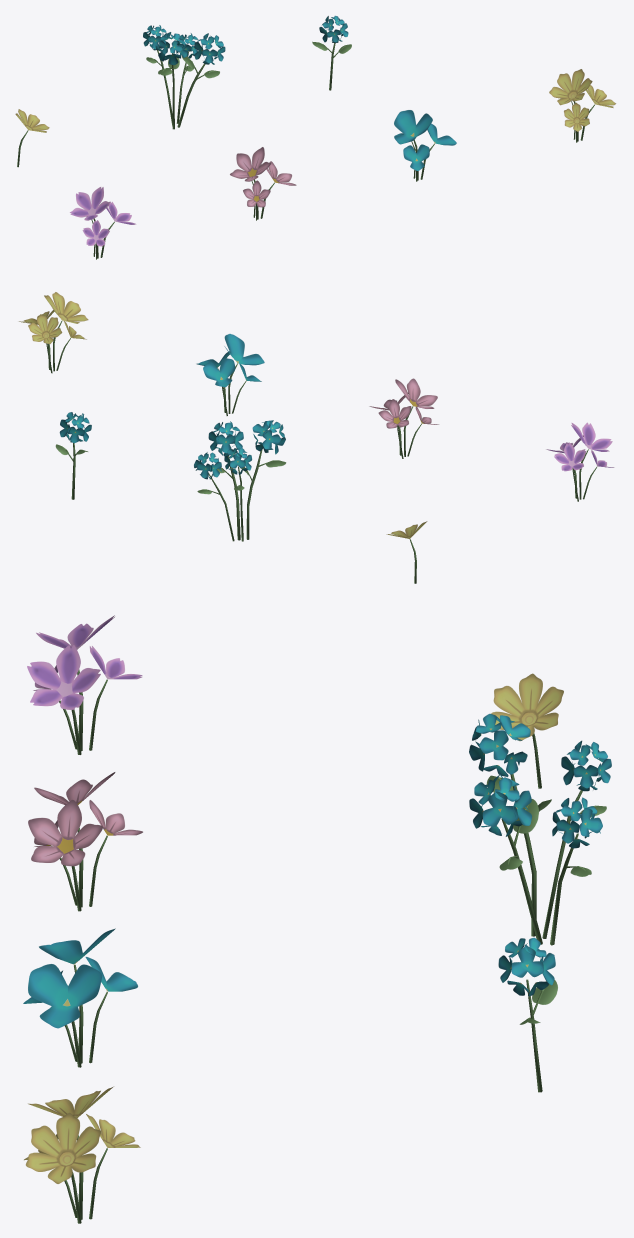
The model's file is flowers.glb.
The picture shows the model from 3 angles, top to bottom: view 1: azimuth 30°, elevation 25°; view 2: azimuth 150°, elevation 25°; view 3: azimuth 270°, elevation 25°; orthographic projection. The views are drawn at different scales.
Parts seen in each view (by area): view 1: Flower_1_Clump, Flower_2_Clump, Flower_3_Clump, Flower_4_Clump, Flower_5_Clump, Flower_1, Flower_2; view 2: Flower_1_Clump, Flower_2_Clump, Flower_3_Clump, Flower_4_Clump, Flower_5_Clump, Flower_1; view 3: Flower_1_Clump, Flower_2_Clump, Flower_3_Clump, Flower_4_Clump, Flower_5_Clump, Flower_2, Flower_1.
Part boxes in pixels (x1,y1,x2,y2): Flower_1_Clump: [143, 25, 225, 129]; Flower_2_Clump: [549, 69, 615, 142]; Flower_3_Clump: [394, 110, 456, 181]; Flower_4_Clump: [230, 147, 296, 220]; Flower_5_Clump: [70, 187, 135, 259]; Flower_1: [312, 15, 351, 90]; Flower_2: [15, 109, 49, 167]; Flower_1_Clump: [194, 420, 286, 541]; Flower_2_Clump: [19, 292, 88, 373]; Flower_3_Clump: [196, 334, 264, 415]; Flower_4_Clump: [369, 378, 438, 458]; Flower_5_Clump: [546, 422, 614, 501]; Flower_1: [55, 412, 91, 499]; Flower_1_Clump: [469, 713, 611, 945]; Flower_2_Clump: [24, 1086, 140, 1223]; Flower_3_Clump: [23, 928, 137, 1067]; Flower_4_Clump: [28, 772, 142, 911]; Flower_5_Clump: [27, 615, 142, 754]; Flower_2: [491, 673, 563, 788]; Flower_1: [498, 937, 557, 1092].
Bounding box in the file's own units: 3.59 × 0.6742 × 1.71.
1 material, 1 textured.
